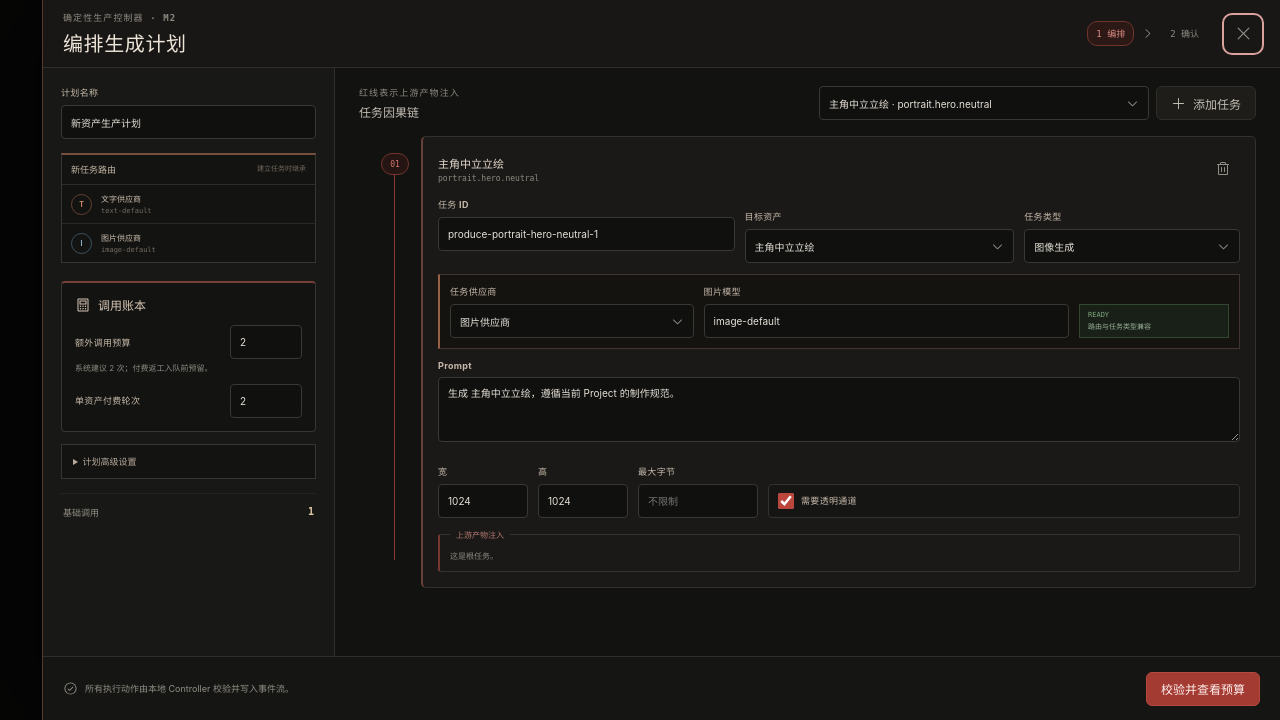
Scenario: M2 生产抽屉 › 要求模型先登记，并阻止已停用或明确分类不兼容的模型
Replace the text in the field labelled "图片模型" with "manual-image-custom". click: [886, 321]
box: [704, 304, 1069, 338]
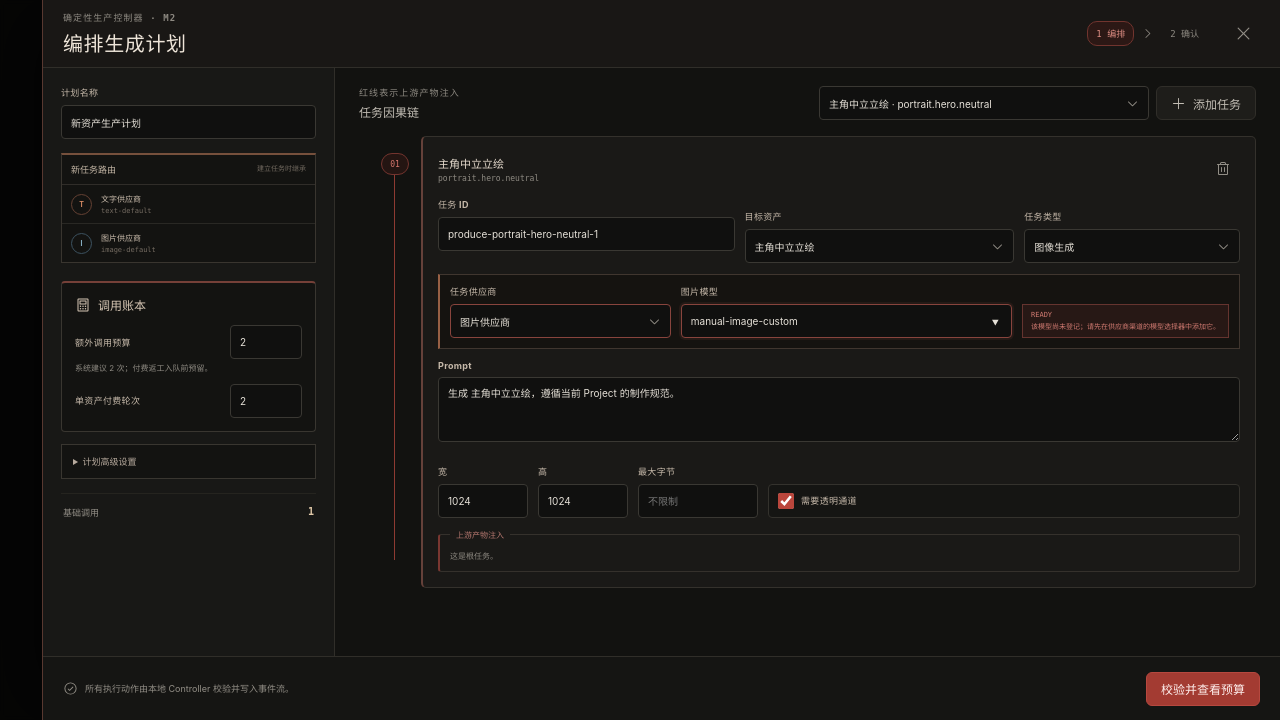
Now the text "该模型尚未登记；请先在供应商渠道的模型选择器中添加它。" is shown, box [1031, 322, 1220, 331]
Click the button "校验并查看预算". click: [1203, 688]
box: [1146, 672, 1260, 706]
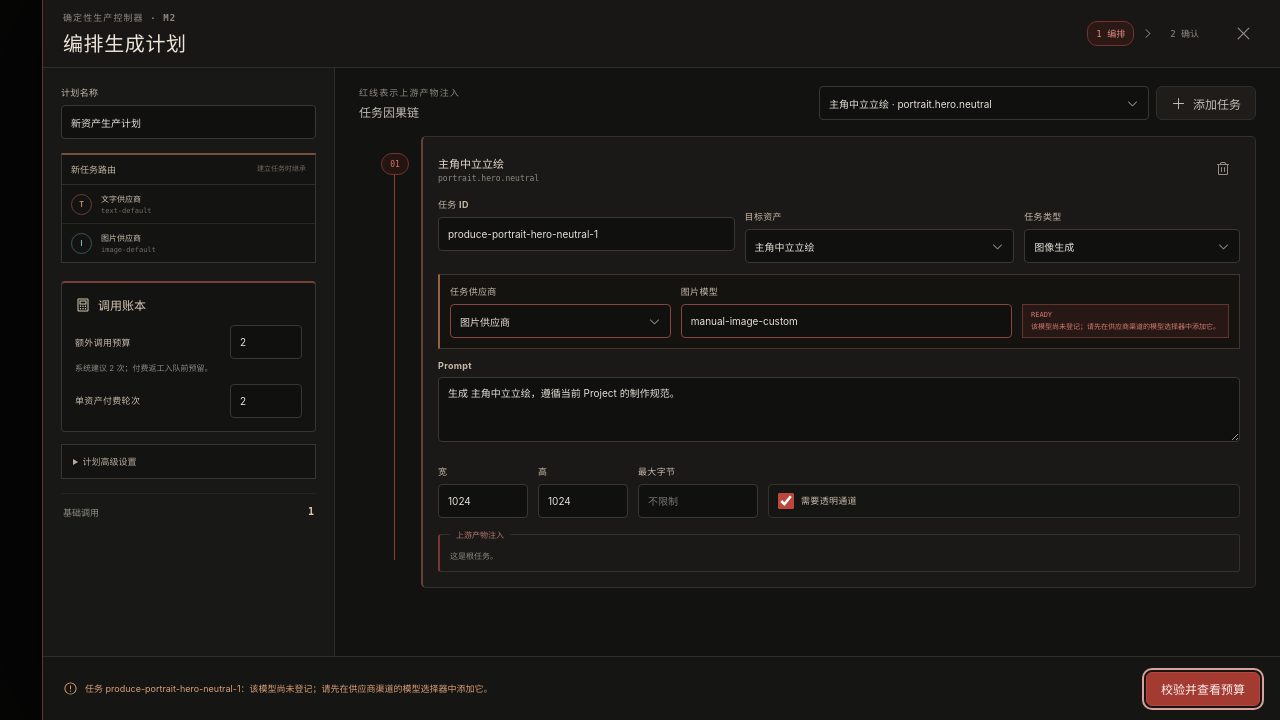
Now the message shows "该模型尚未登记", box [85, 683, 492, 694]
Clear the field labelled "图片模型". click: [846, 321]
box: [681, 304, 1012, 338]
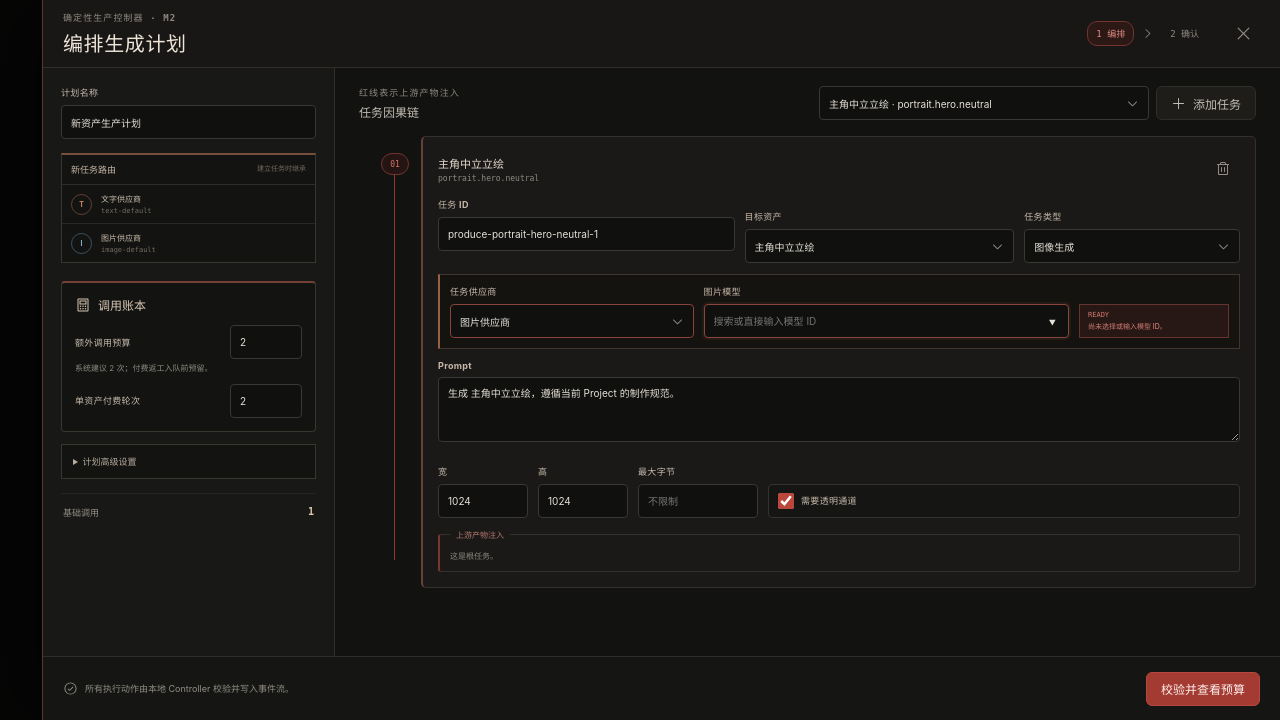
Type "image-provider-text" into the field labelled "图片模型". click: [886, 321]
box: [704, 304, 1069, 338]
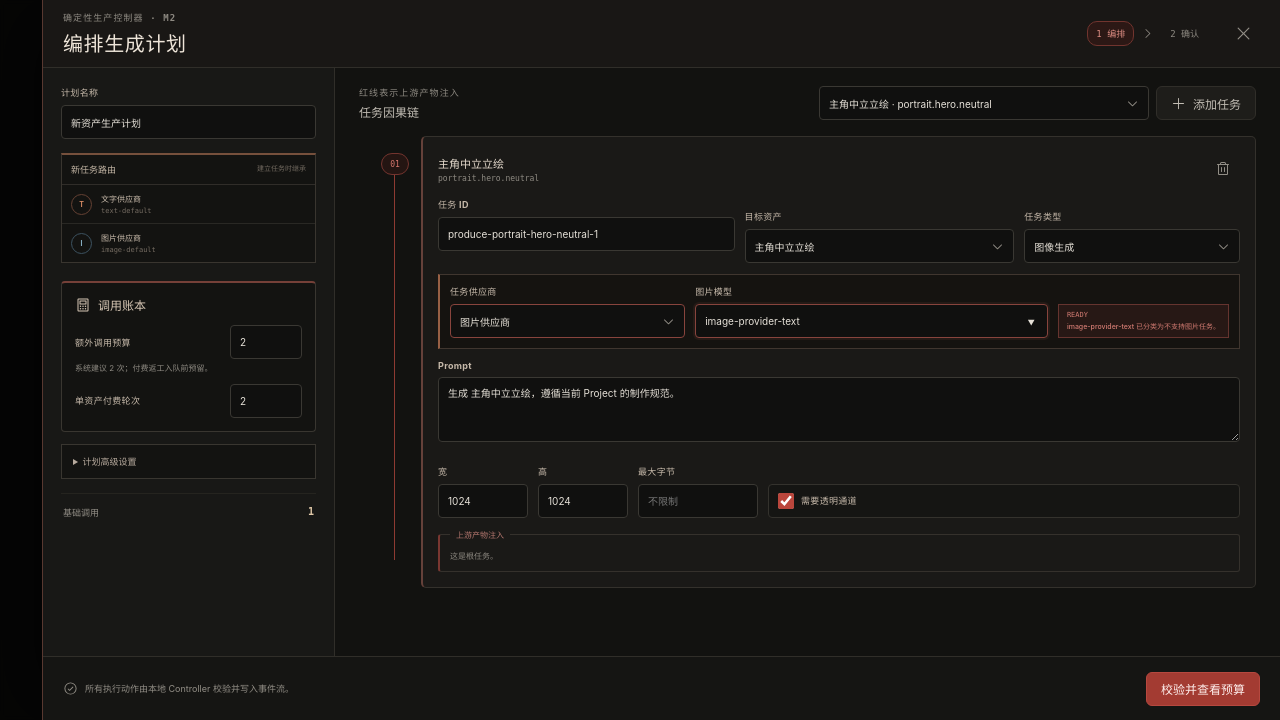
Now the text "image-provider-text 已分类为不支持图片任务。" is shown, box [1067, 322, 1220, 331]
Click the button "校验并查看预算". click: [1203, 688]
box: [1146, 672, 1260, 706]
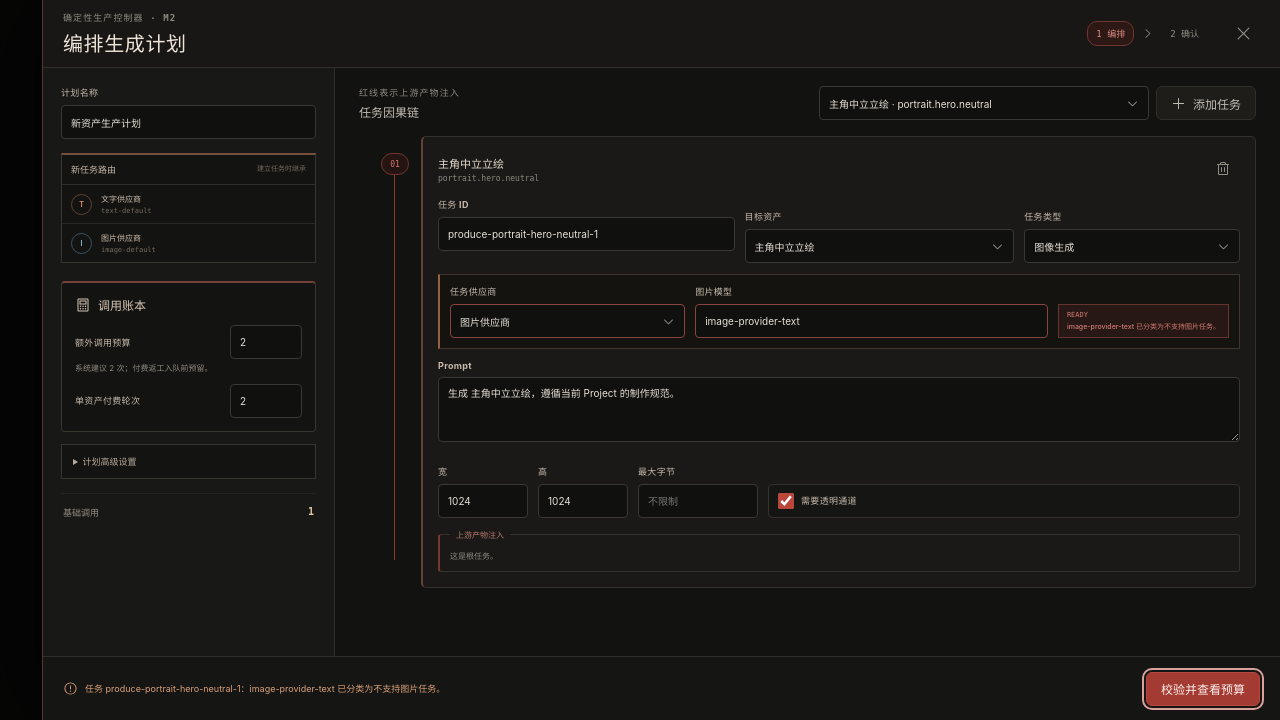
Now the message shows "image-provider-text 已分类为不支持图片任务", box [85, 683, 445, 694]
